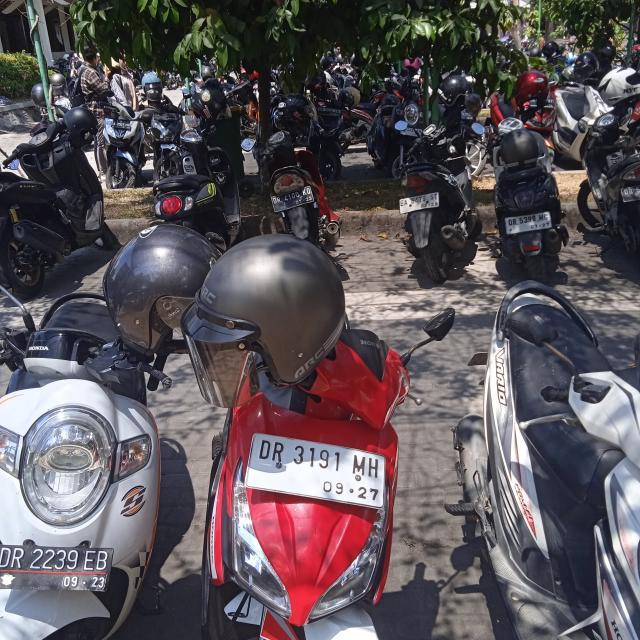plate: (245, 434, 388, 508), (1, 544, 115, 594), (270, 184, 315, 213), (504, 210, 552, 236), (399, 191, 439, 214)
